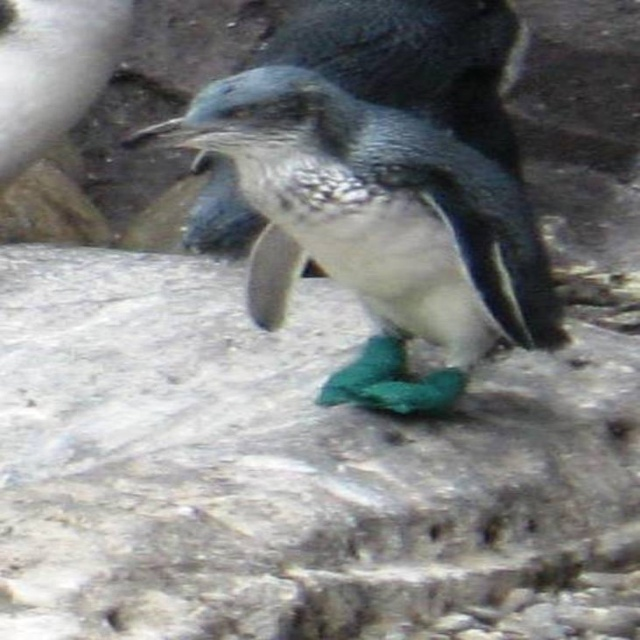Penguin: (119, 66, 581, 421)
